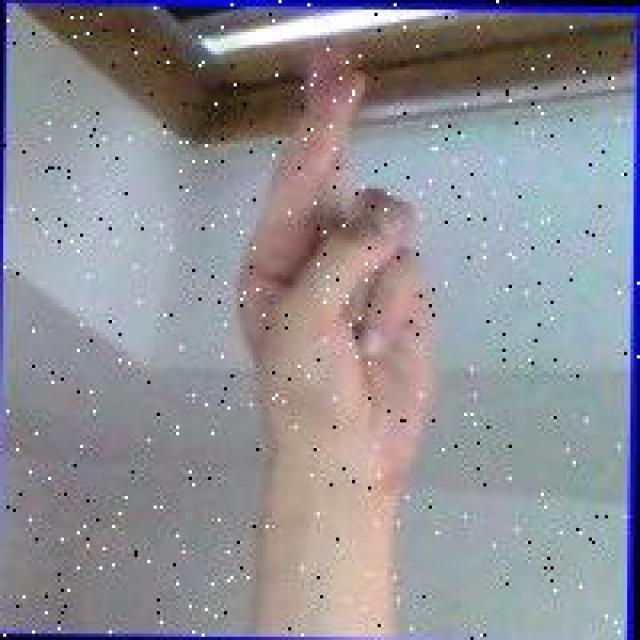R: (224, 38, 454, 490)
